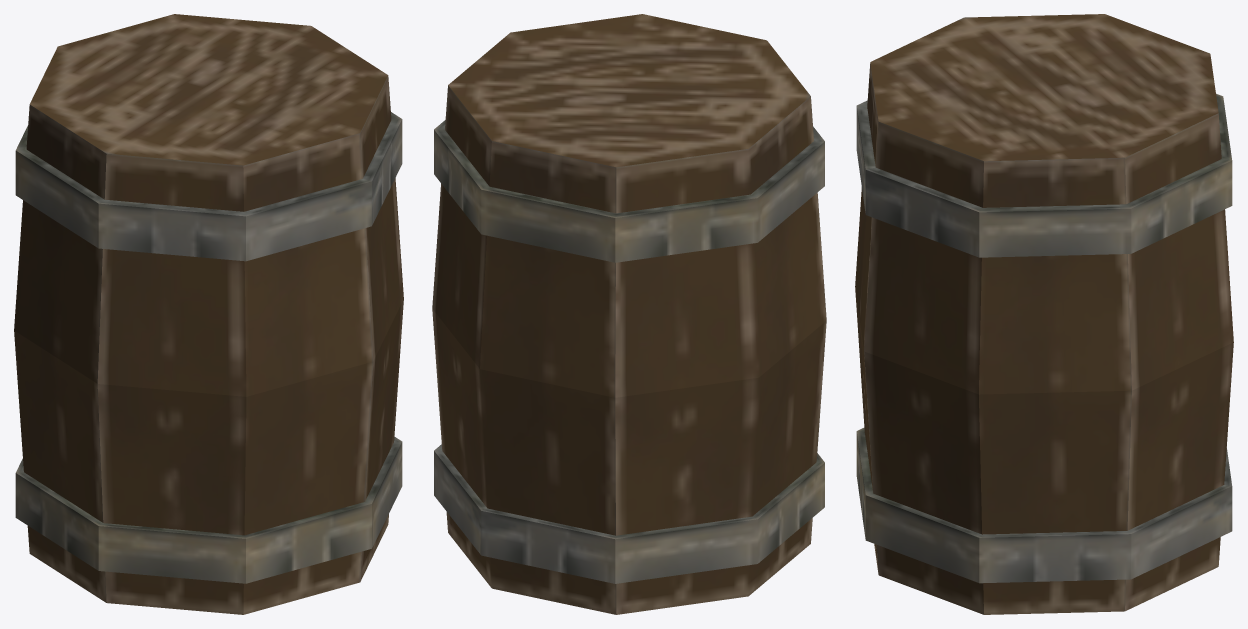
The model's file is Barrel_small_001.obj.
3 views of the same model, side by side, from view 1: azimuth 30°, elevation 25°; view 2: azimuth 150°, elevation 25°; view 3: azimuth 270°, elevation 25° (orthographic).
Parts seen in each view (by area): view 1: Barrel_small_001; view 2: Barrel_small_001; view 3: Barrel_small_001.
Part boxes in pixels (x1,y1,x2,y2): Barrel_small_001: (14, 14, 403, 614); Barrel_small_001: (432, 14, 826, 614); Barrel_small_001: (855, 14, 1233, 614).
Size of the model in its own units: 1.14 by 1.51 by 1.14.
